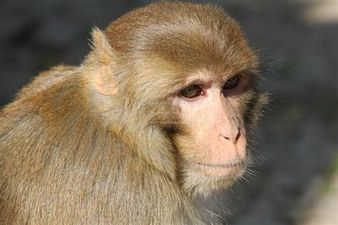monkey: (3, 3, 268, 217)
